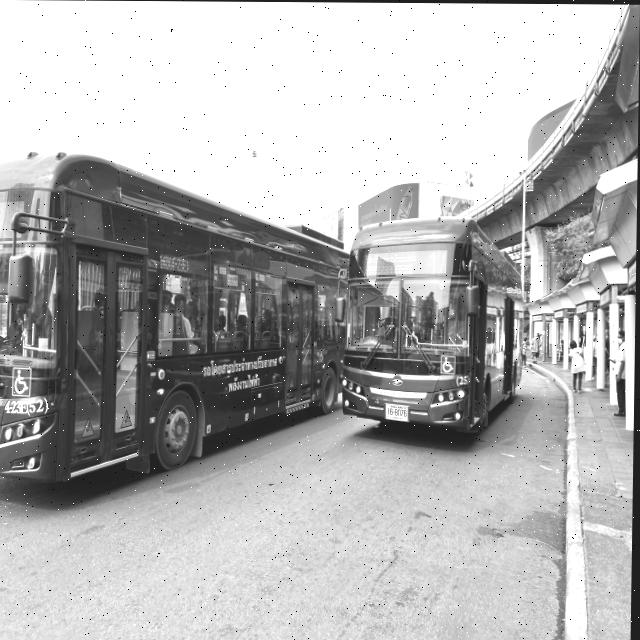Bus-Line-Number: (429, 246, 451, 275)
Destination-Sign-Normal: (364, 250, 420, 276)
TSB-Bus: (0, 152, 351, 490), (341, 217, 530, 437)
